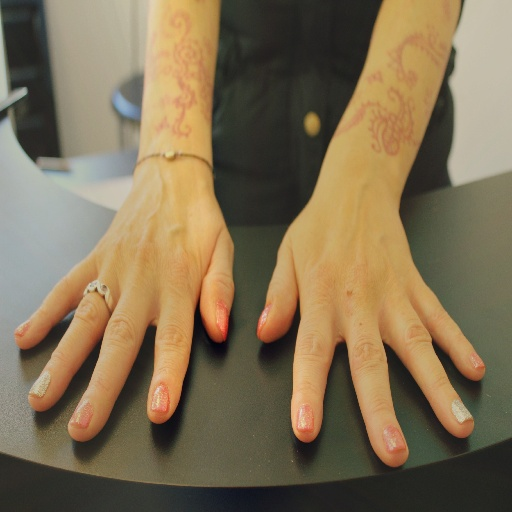hand: (16, 135, 245, 458), (256, 181, 487, 467)
